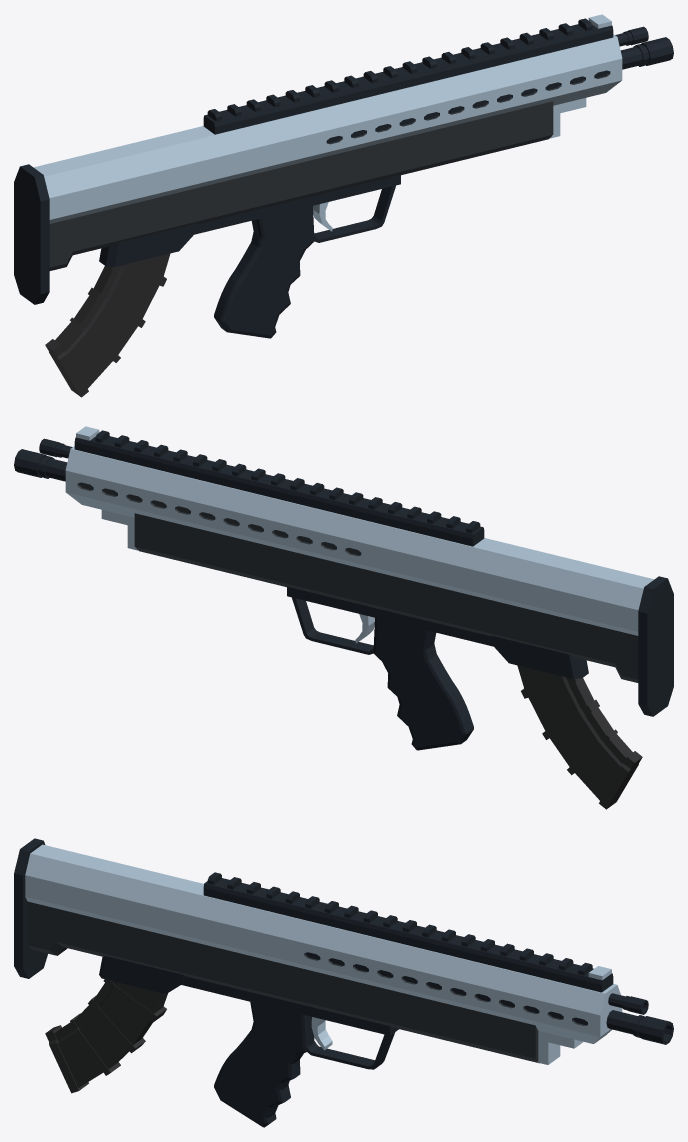
File: Railgun.glb
The picture shows the model from 3 angles, top to bottom: view 1: azimuth 30°, elevation 25°; view 2: azimuth 150°, elevation 25°; view 3: azimuth 330°, elevation 25°; orthographic projection.
Visible parts, largest first — view 1: Bullpup_3; view 2: Bullpup_3; view 3: Bullpup_3.
Boxes of the visible parts, x1,y1,x2,y2 form: Bullpup_3: (14,14,673,397); Bullpup_3: (14,426,673,809); Bullpup_3: (14,838,673,1127).
Size of the model in its own units: 4.31 by 1.6 by 0.3103.
